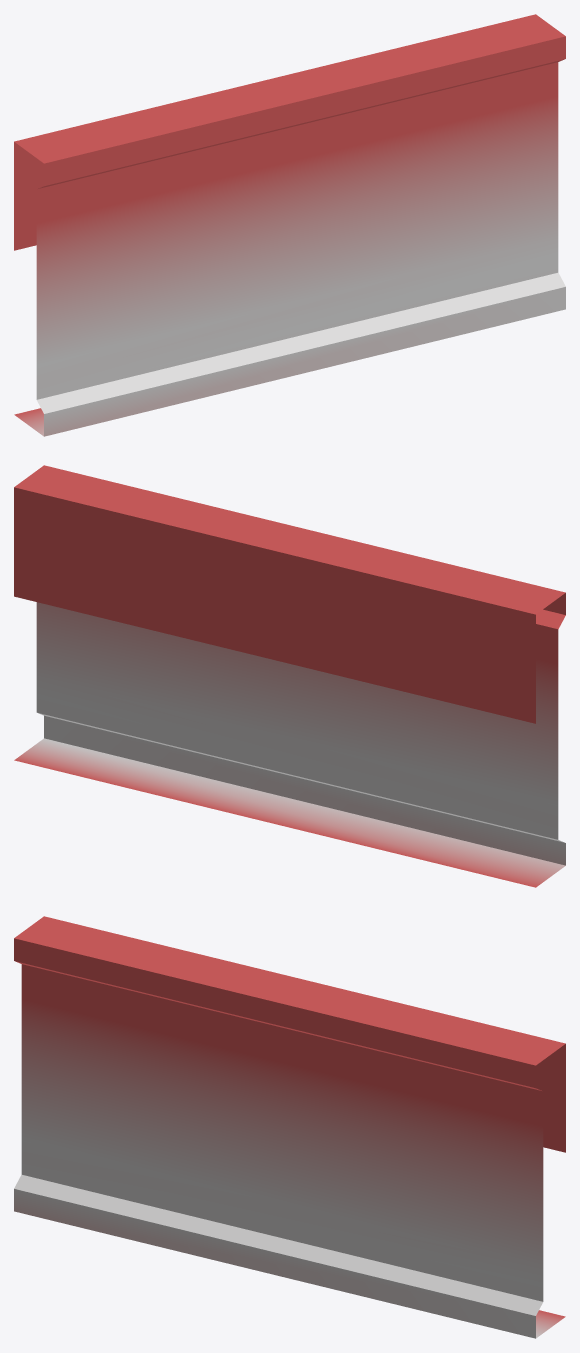
Rendered from Cornice_Metal_Center.gltf.
The picture shows the model from 3 angles, top to bottom: view 1: azimuth 30°, elevation 25°; view 2: azimuth 150°, elevation 25°; view 3: azimuth 330°, elevation 25°; orthographic projection.
Parts seen in each view (by area): view 1: Cornice_Metal_Center; view 2: Cornice_Metal_Center; view 3: Cornice_Metal_Center.
Boxes of the visible parts, x1=… form: Cornice_Metal_Center: x1=14, y1=14, x2=565, y2=436; Cornice_Metal_Center: x1=14, y1=465, x2=565, y2=887; Cornice_Metal_Center: x1=14, y1=916, x2=565, y2=1338.
Size of the model in its own units: 2 by 1 by 0.2.
